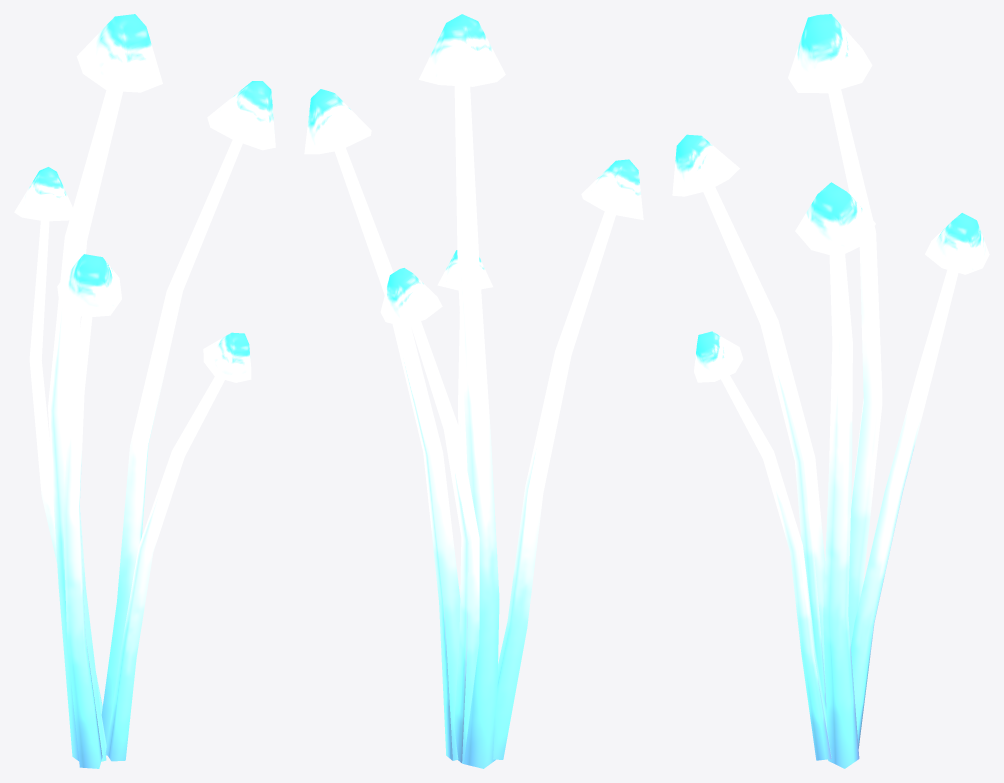
The model's file is SM_ENV_mushrooms_ancient_02_01.fbx.
The picture shows the model from 3 angles, left to right: view 1: azimuth 30°, elevation 25°; view 2: azimuth 150°, elevation 25°; view 3: azimuth 270°, elevation 25°; orthographic projection. The views are drawn at different scales.
Parts seen in each view (by area): view 1: SM_ENV_mushrooms_ancient_02_01_LOD0; view 2: SM_ENV_mushrooms_ancient_02_01_LOD0; view 3: SM_ENV_mushrooms_ancient_02_01_LOD0.
Part boxes in pixels (<box>): SM_ENV_mushrooms_ancient_02_01_LOD0: <box>14,14,275,768</box>; SM_ENV_mushrooms_ancient_02_01_LOD0: <box>304,14,643,768</box>; SM_ENV_mushrooms_ancient_02_01_LOD0: <box>672,14,989,768</box>.
Size of the model in its own units: 21.87 by 55.99 by 21.39.
